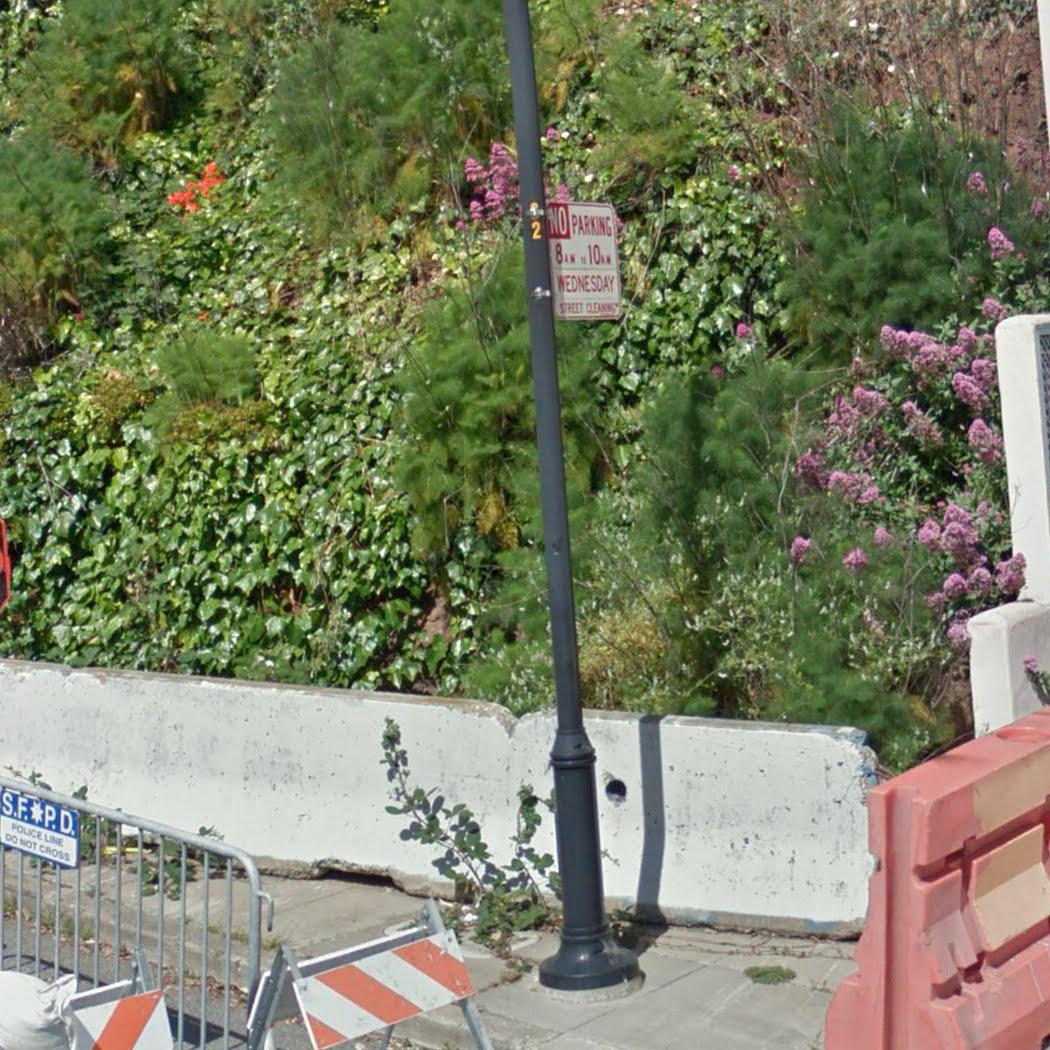No Parking: (537, 193, 634, 328)
